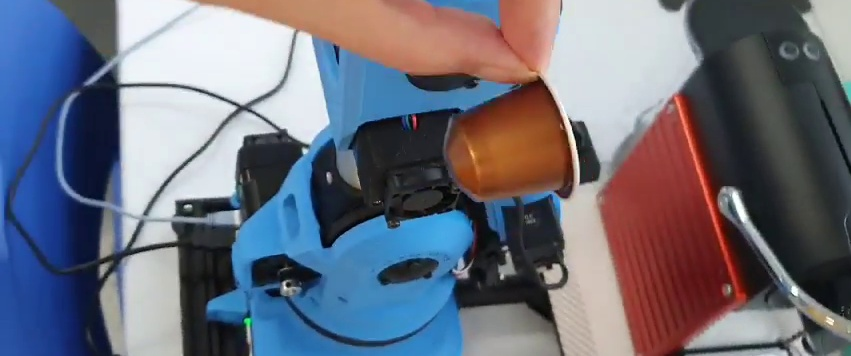capsule_3: (441, 67, 580, 207)
